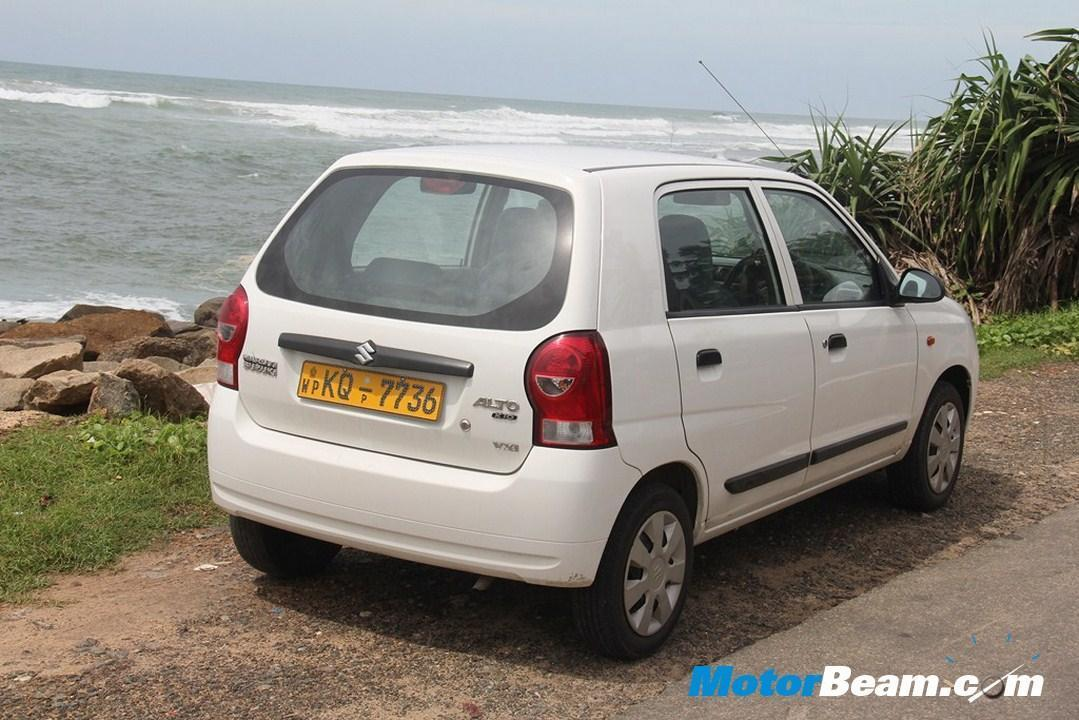license-plate: (302, 359, 439, 420)
